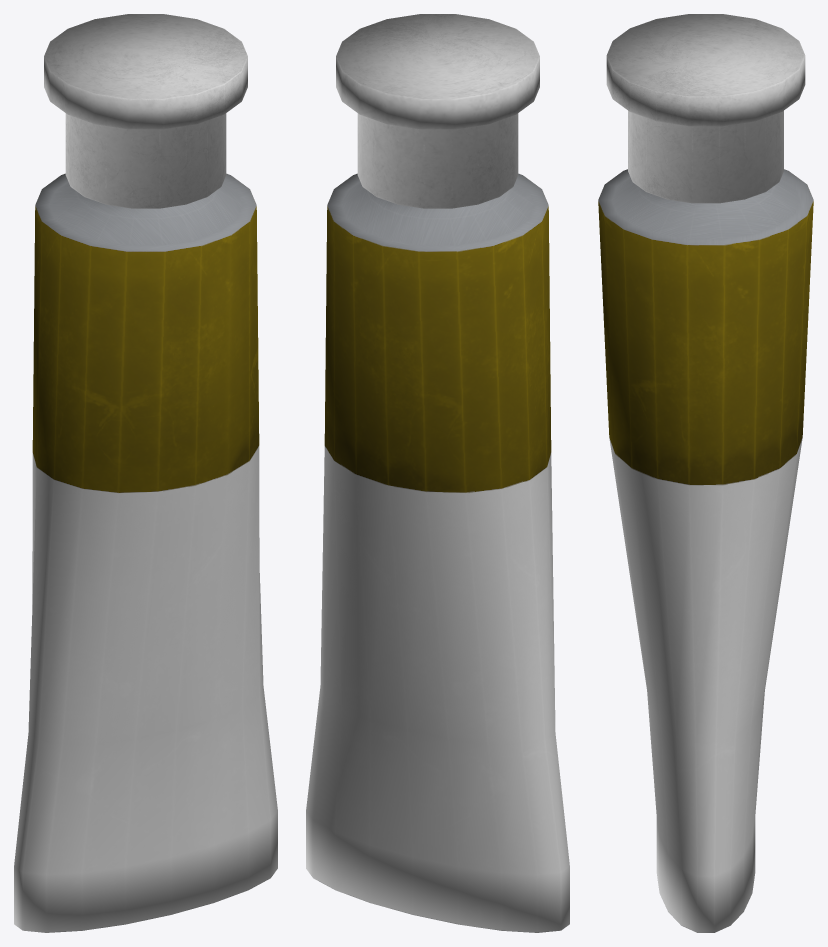
The model's file is tuboDeTInta_TEXTURIZADO_marrom.fbx.
3 renders of one model, left to right at view 1: azimuth 30°, elevation 25°; view 2: azimuth 150°, elevation 25°; view 3: azimuth 270°, elevation 25°, orthographic. The views are drawn at different scales.
Visible parts, largest first — view 1: t marrom; view 2: t marrom; view 3: t marrom.
Boxes of the visible parts, x1=… form: t marrom: x1=14, y1=14, x2=277, y2=932; t marrom: x1=306, y1=14, x2=569, y2=932; t marrom: x1=598, y1=14, x2=813, y2=932.
Bounding box in the file's own units: 5.55 × 17.48 × 4.18.
Materials: 1 (1 with a texture image).
